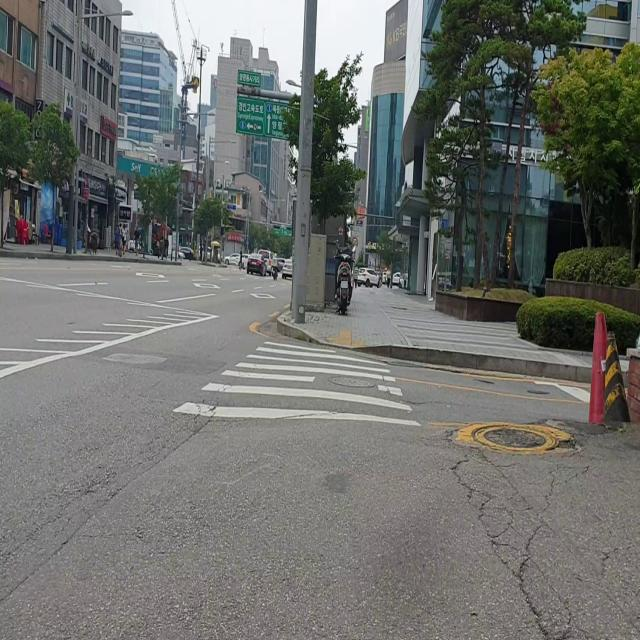횡단보도: (170, 339, 422, 430)
